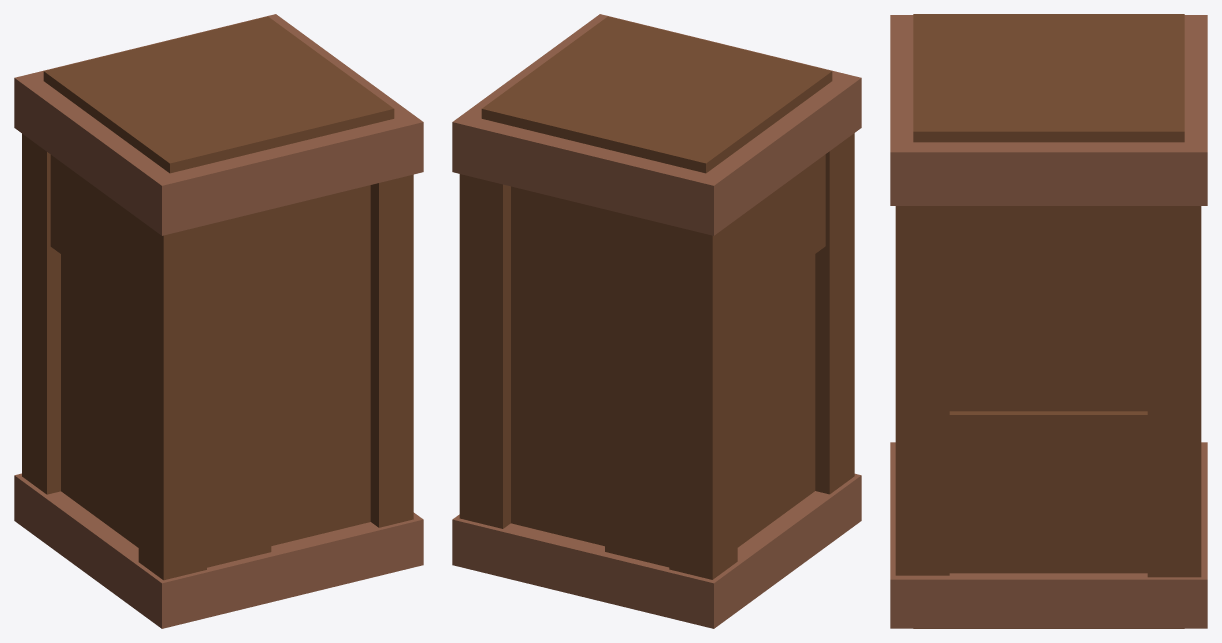
File: woodbox2.fbx
The picture shows the model from 3 angles, left to right: view 1: azimuth 30°, elevation 25°; view 2: azimuth 150°, elevation 25°; view 3: azimuth 270°, elevation 25°; orthographic projection. The views are drawn at different scales.
Parts seen in each view (by area): view 1: woodbox2; view 2: woodbox2; view 3: woodbox2.
Part boxes in pixels (x1,y1,x2,y2): woodbox2: (14,14,423,628); woodbox2: (452,14,861,628); woodbox2: (890,14,1207,628).
Size of the model in its own units: 150 by 253 by 146.
